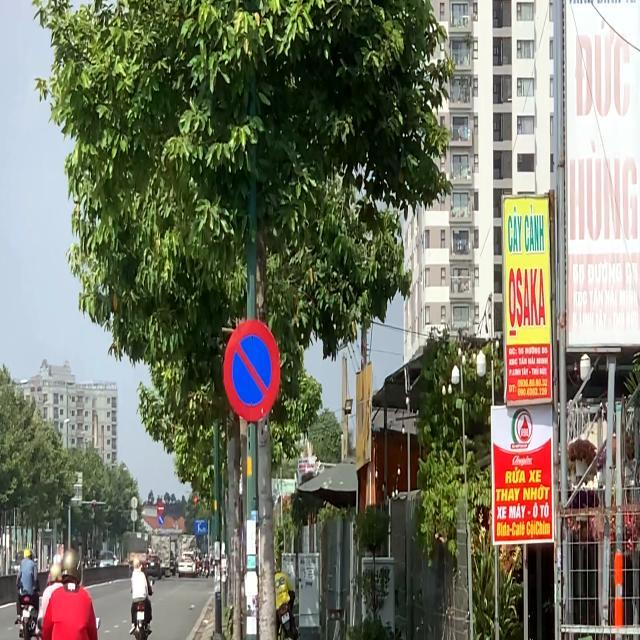P-131a: (222, 320, 280, 422)
